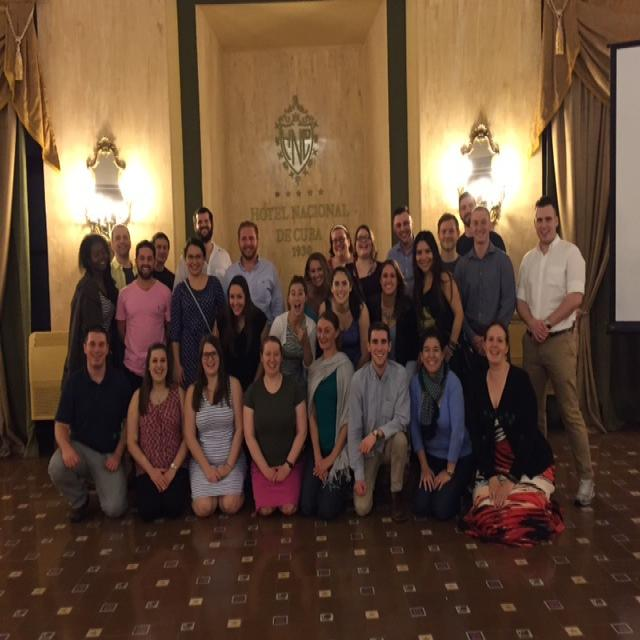body: (512, 192, 600, 509), (469, 317, 558, 548), (43, 322, 138, 530), (404, 323, 478, 524), (345, 316, 413, 525), (179, 329, 250, 522), (239, 331, 311, 520), (297, 307, 356, 524), (126, 340, 190, 524), (115, 238, 174, 431), (57, 230, 120, 394), (452, 205, 518, 359), (167, 236, 230, 397), (410, 228, 468, 391), (251, 273, 318, 387), (219, 218, 286, 326), (221, 272, 270, 395), (317, 264, 371, 372), (171, 203, 233, 296), (369, 258, 416, 370), (344, 223, 385, 325), (454, 191, 507, 257), (384, 204, 417, 287), (107, 221, 141, 292), (303, 251, 333, 316), (148, 229, 177, 295), (436, 211, 464, 273), (326, 223, 356, 273)
